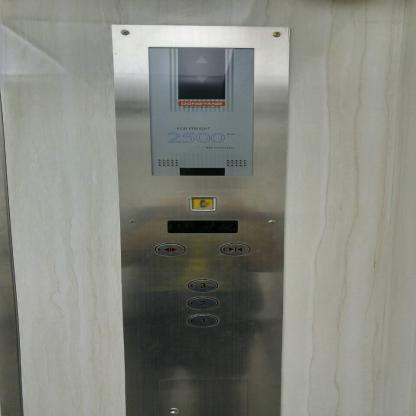1: (185, 312, 220, 328)
2: (185, 296, 219, 310)
3: (186, 277, 220, 293)
call: (188, 195, 218, 212)
close: (216, 241, 252, 257)
led: (174, 46, 230, 101)
open: (152, 242, 187, 257)
